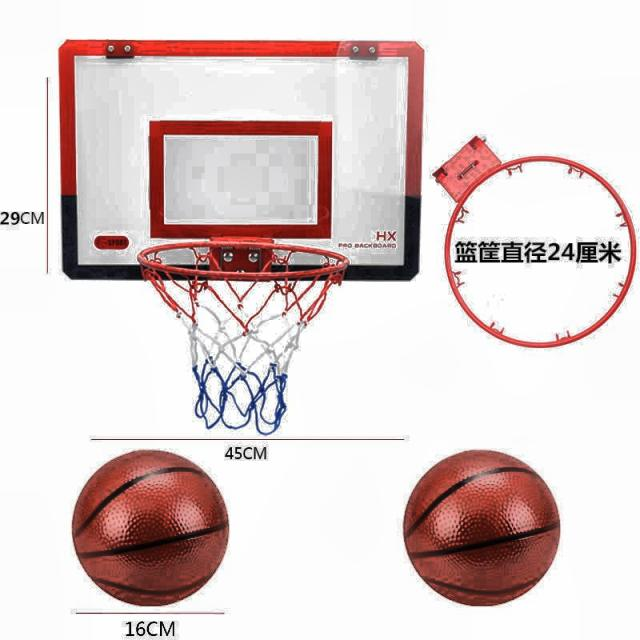board: (402, 449, 561, 608), (70, 450, 230, 607)
rim: (132, 241, 350, 433)
